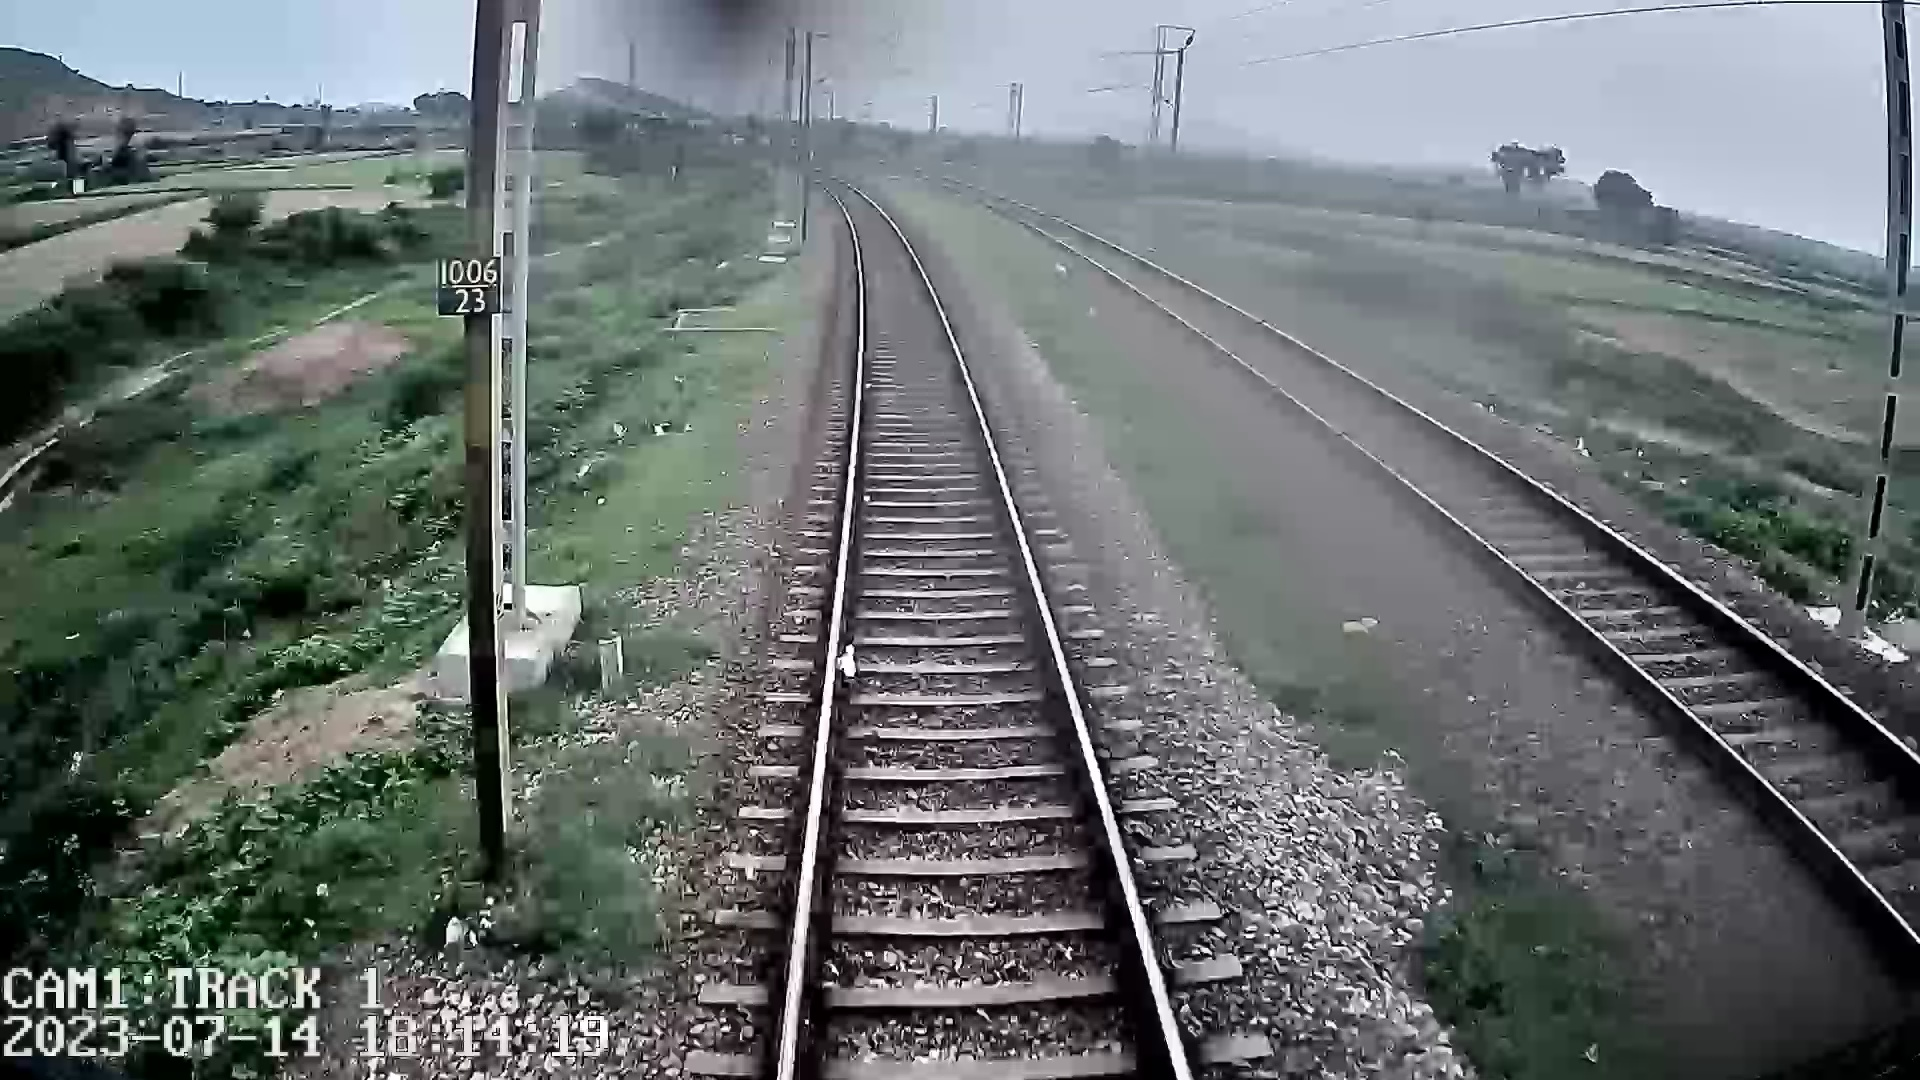track1: (786, 173, 1182, 1068)
track2: (1021, 219, 1917, 927)
